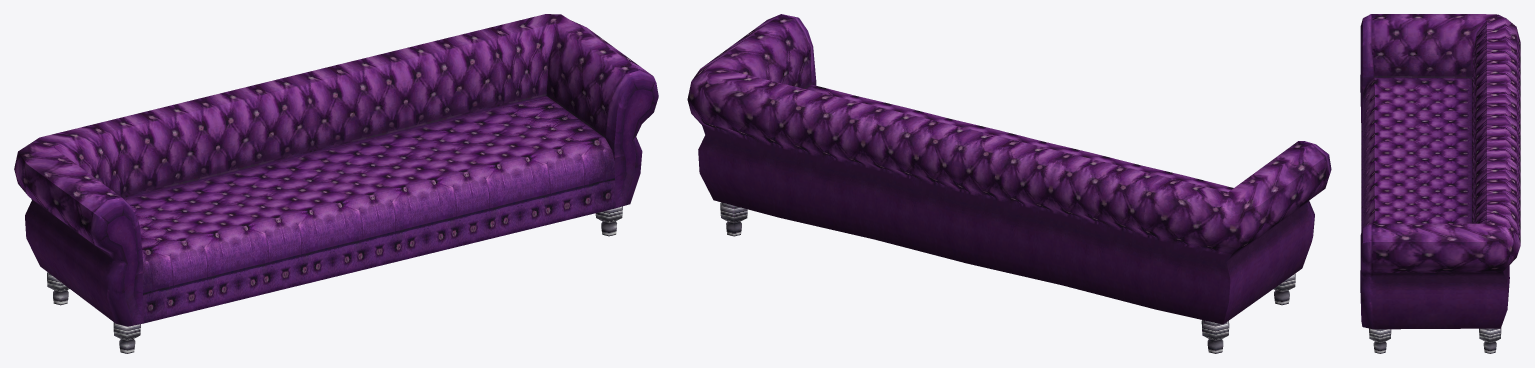
The model's file is furni_0200725.FBX.
3 views of the same model, side by side, from view 1: azimuth 30°, elevation 25°; view 2: azimuth 150°, elevation 25°; view 3: azimuth 270°, elevation 25° (orthographic). The views are drawn at different scales.
Parts seen in each view (by area): view 1: furni_0200725; view 2: furni_0200725; view 3: furni_0200725.
Boxes of the visible parts, <box> form: furni_0200725: <box>14,14,658,353</box>; furni_0200725: <box>687,14,1331,353</box>; furni_0200725: <box>1360,14,1520,353</box>.
Bounding box in the file's own units: 239 × 64.79 × 70.91.
Materials: 1 (1 with a texture image).
